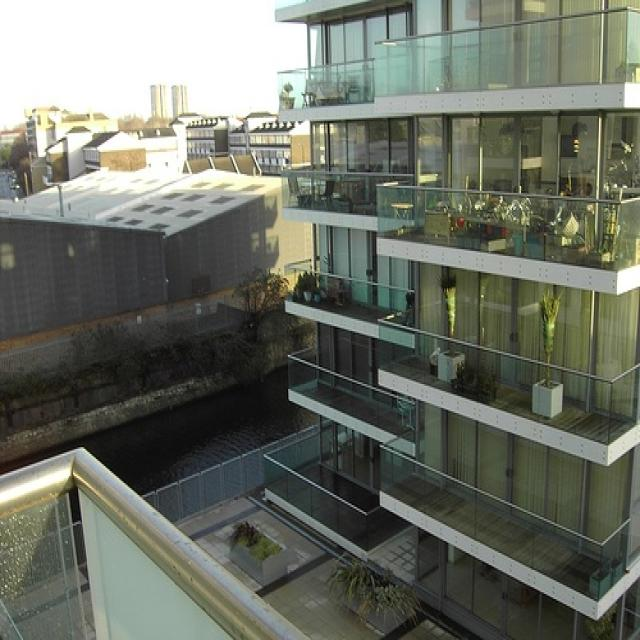pottedplant: (534, 294, 564, 416), (436, 276, 466, 384), (280, 84, 296, 112), (304, 275, 312, 300), (296, 272, 303, 300), (314, 278, 321, 304)
